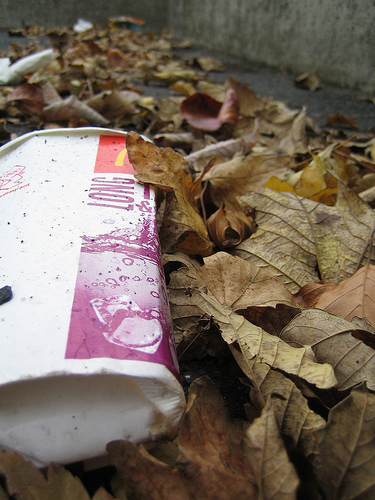litter: (2, 124, 186, 468), (2, 50, 54, 83), (108, 16, 147, 31), (75, 20, 93, 31)
